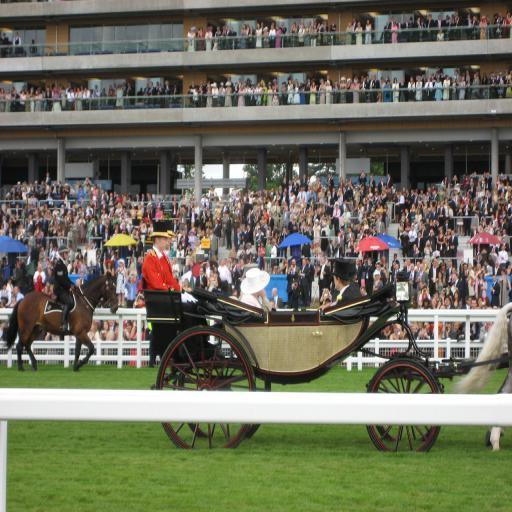horse: (4, 270, 118, 374), (451, 303, 511, 454)
